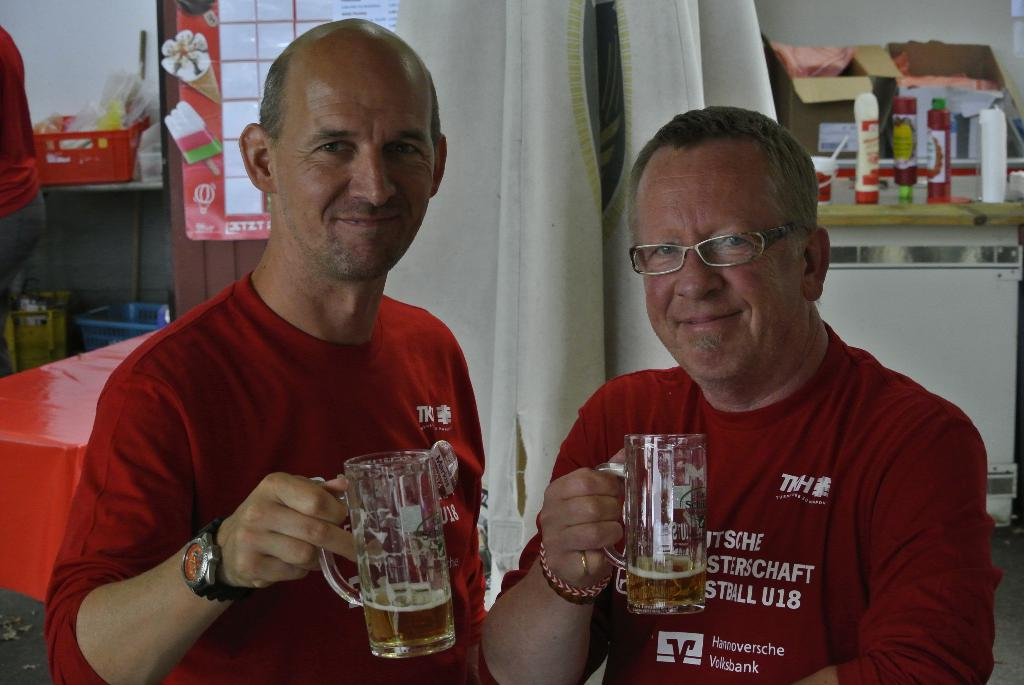Beer: (621, 559, 711, 618), (367, 585, 455, 645)
